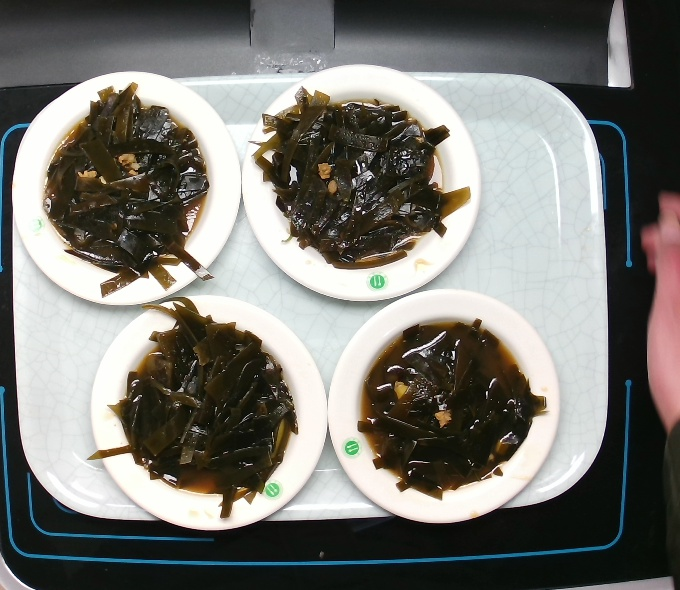wcq-HaiDai: (253, 79, 463, 267), (113, 305, 296, 511), (45, 83, 209, 281), (359, 322, 540, 491)
